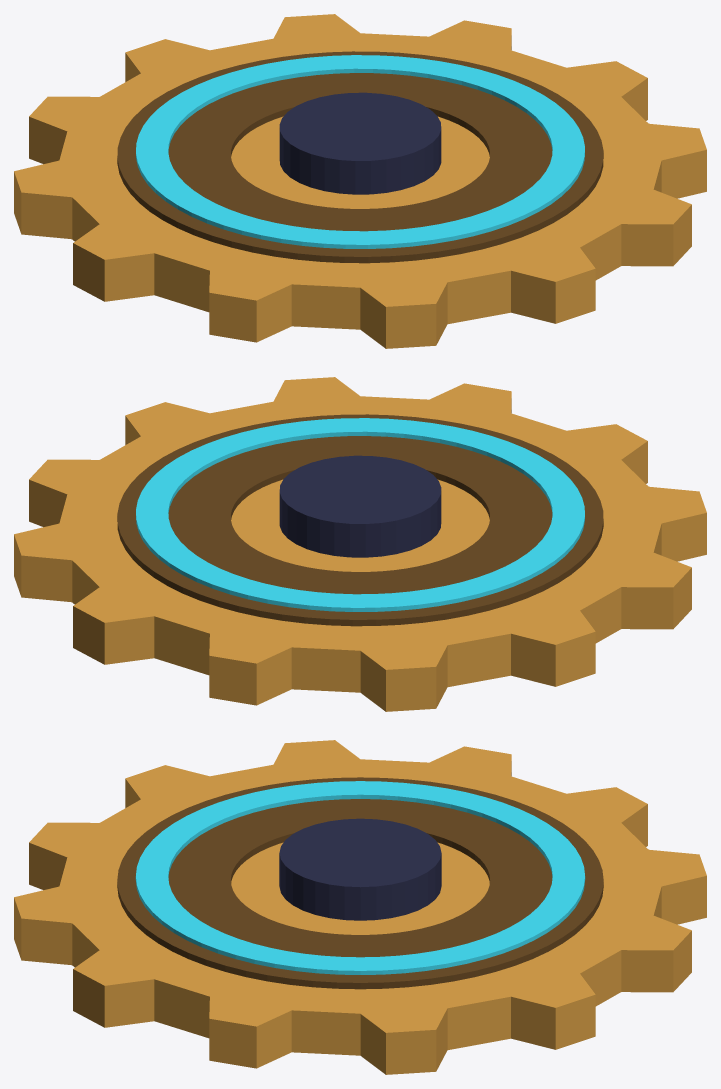
File: Gear_Small.obj
3 renders of one model, top to bottom at view 1: azimuth 30°, elevation 25°; view 2: azimuth 150°, elevation 25°; view 3: azimuth 270°, elevation 25°, orthographic.
Visible parts, largest first — view 1: Gear_Small; view 2: Gear_Small; view 3: Gear_Small.
Part boxes in pixels (<box>): Gear_Small: <box>14,14,706,348</box>; Gear_Small: <box>14,377,706,711</box>; Gear_Small: <box>14,740,706,1074</box>.
Bounding box in the file's own units: 2.99 × 0.36 × 2.99.
